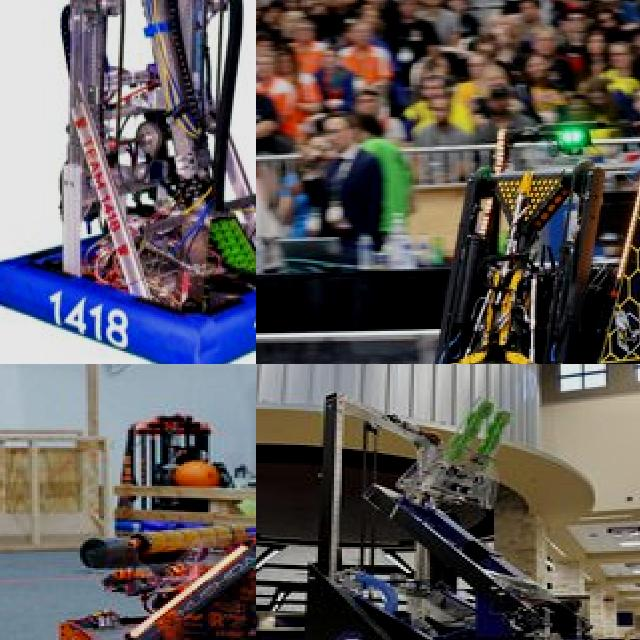FRC-Robots: (256, 364, 640, 640), (0, 0, 256, 364), (381, 79, 640, 364), (15, 387, 256, 640)
